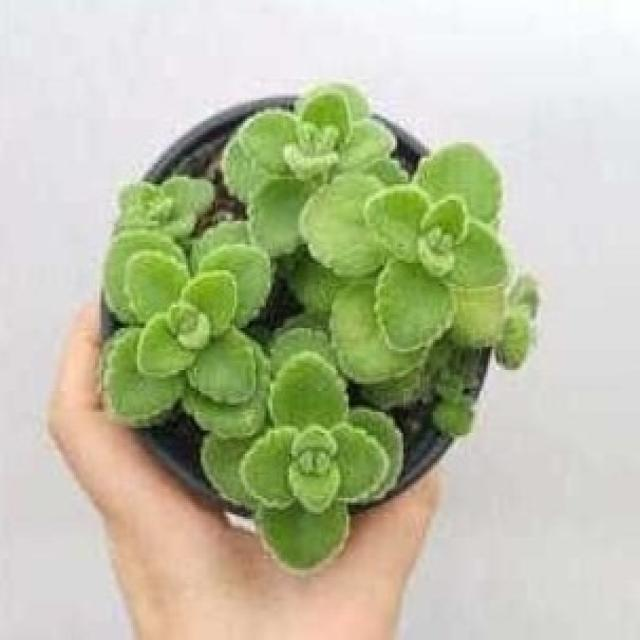Vicks: (301, 143, 511, 385), (203, 326, 403, 568), (105, 236, 270, 437), (224, 85, 394, 255)
